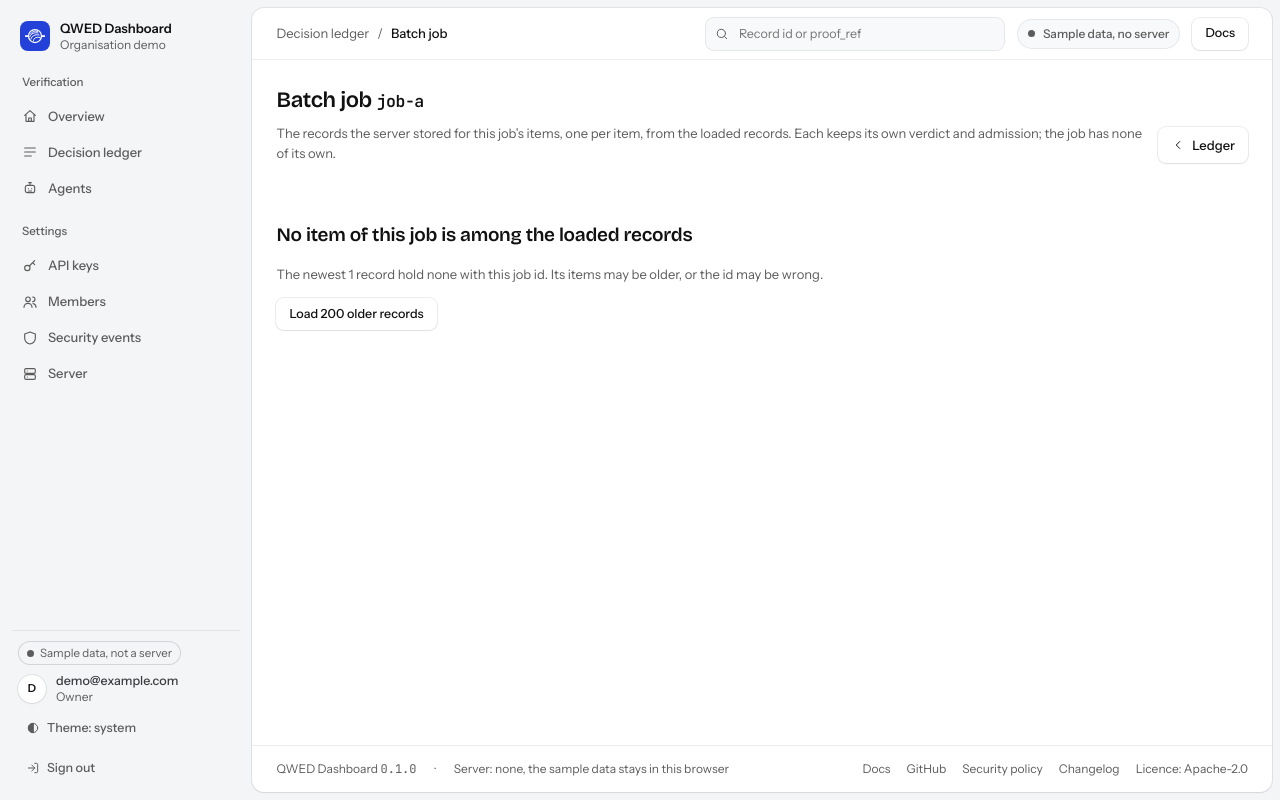
Test: BatchPage › says so when older records cannot be loaded for a job it has not found yet
The image size is (1280, 800).
Click the button "Load 200 older records" at (357, 314), box [276,298,437,330]
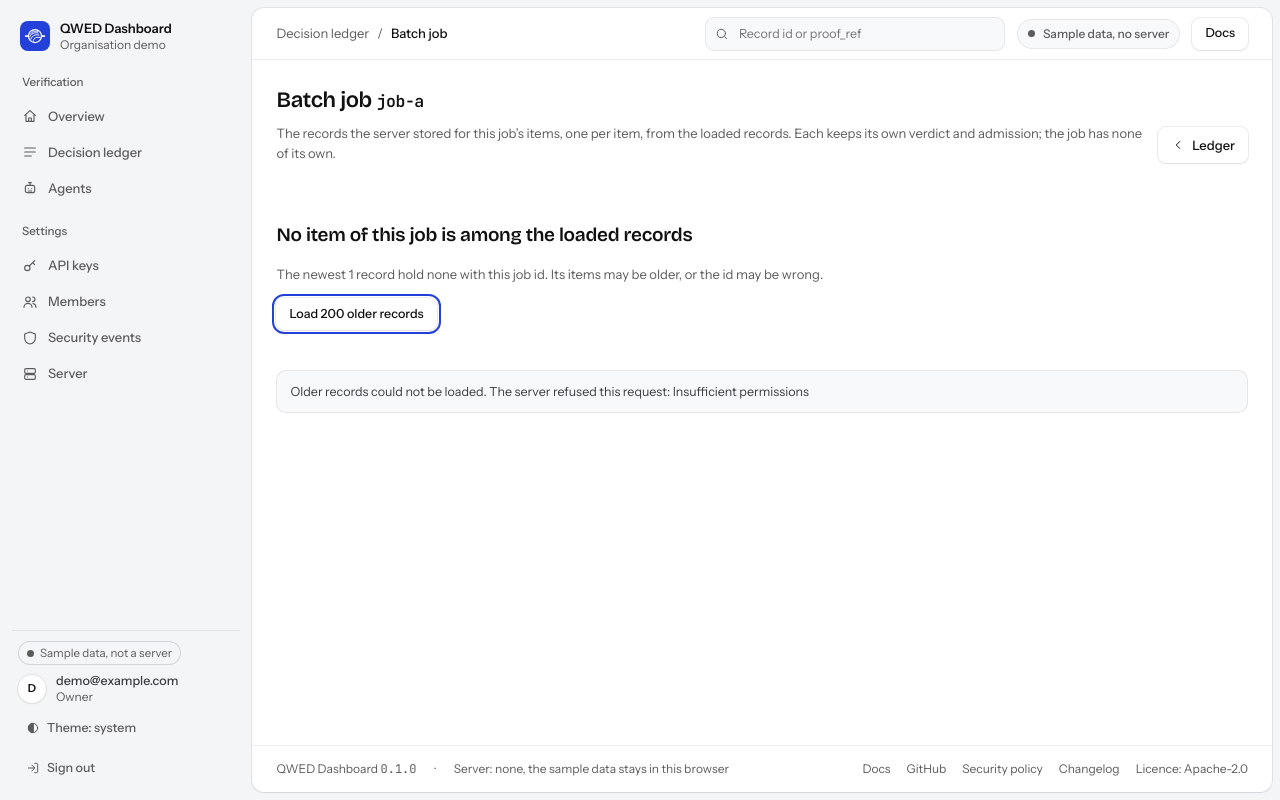
Expected: the heading "No item of this job is among the loaded records" is shown, [276,223,692,246]
Now the message shows "Older records could not be loaded. The server refused this request: Insufficient permissions", box [276,370,1248,413]
